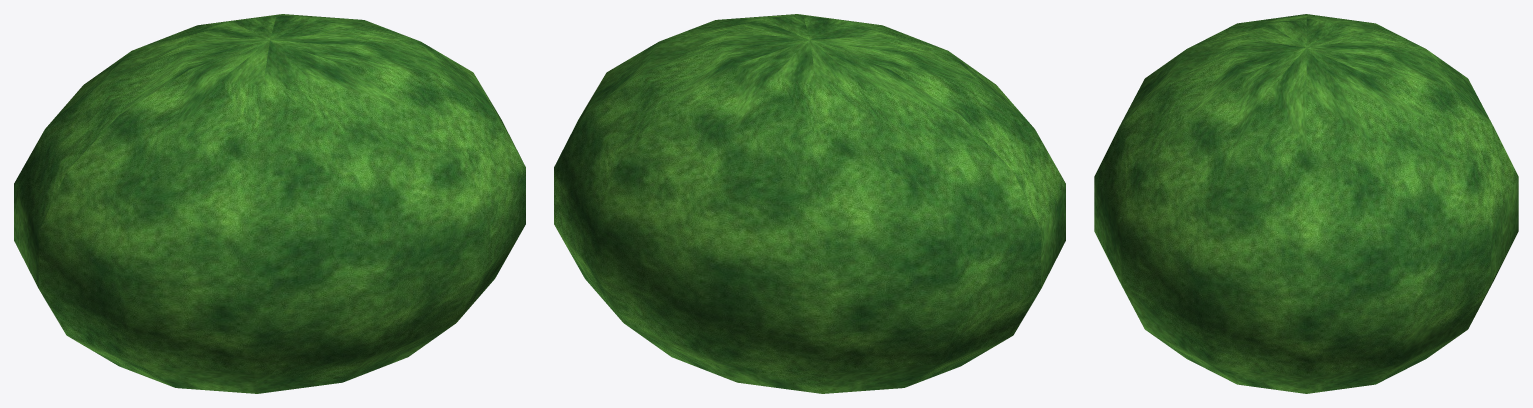
File: obj-prefab-bush.glb
3 renders of one model, left to right at view 1: azimuth 30°, elevation 25°; view 2: azimuth 150°, elevation 25°; view 3: azimuth 270°, elevation 25°, orthographic. The views are drawn at different scales.
Parts seen in each view (by area): view 1: prefab_bush; view 2: prefab_bush; view 3: prefab_bush.
Part boxes in pixels (box(x1,y1,x2,y2)): prefab_bush: box(14, 14, 525, 393); prefab_bush: box(554, 14, 1065, 393); prefab_bush: box(1094, 14, 1518, 393).
Size of the model in its own units: 2.13 by 1.44 by 1.77.
1 material, 1 textured.
